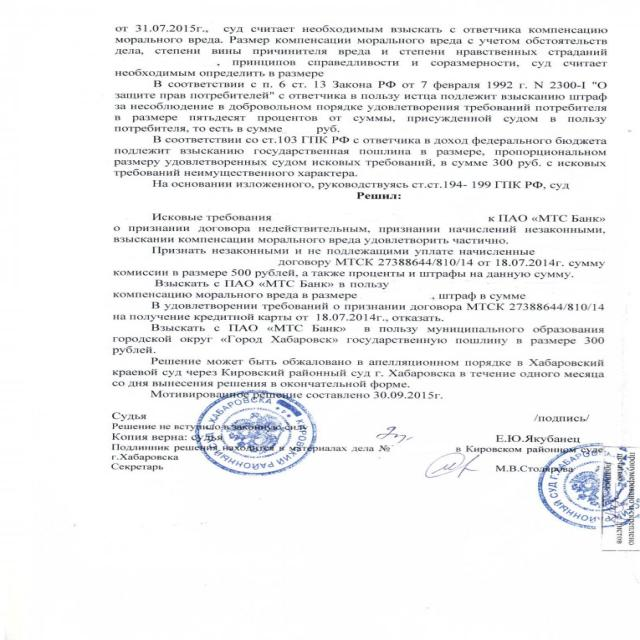stamps: (197, 381, 342, 490), (530, 436, 640, 543)
